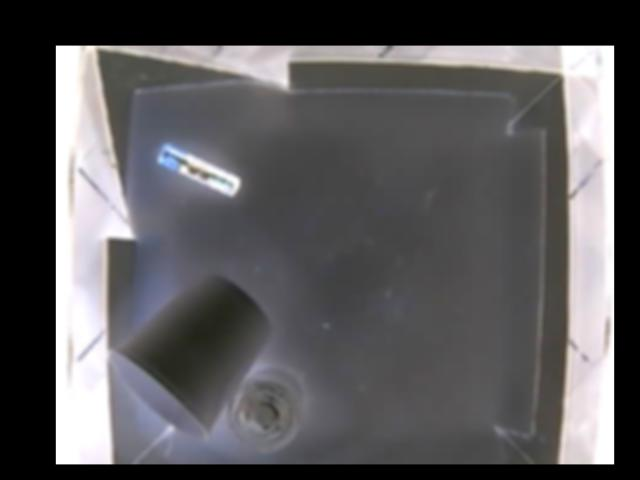Battery: (158, 146, 241, 193)
Bottle: (225, 363, 304, 447)
Cup: (112, 272, 269, 441)
